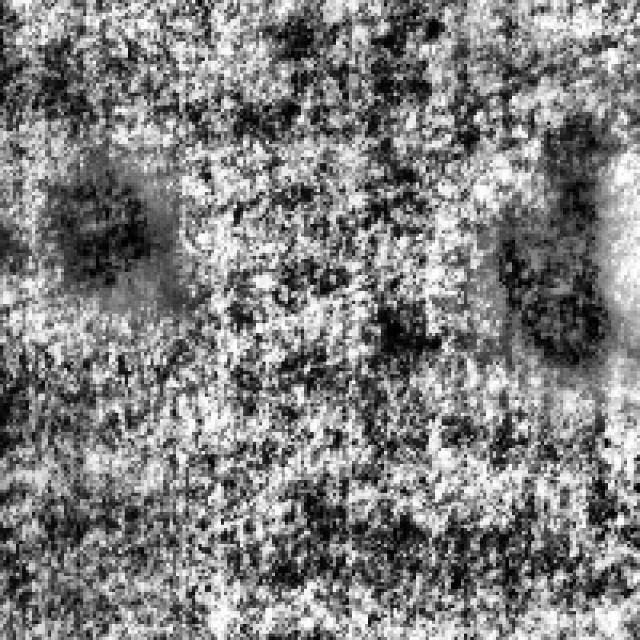Scratches: (486, 157, 612, 368), (36, 150, 166, 288)
